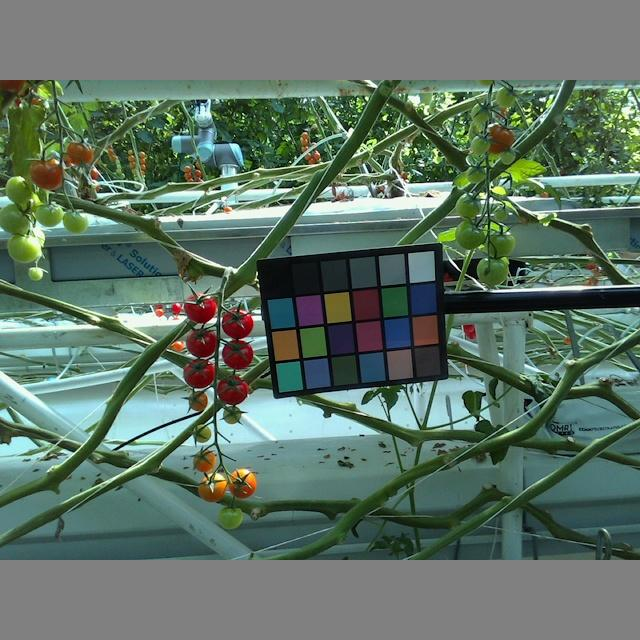green: (6, 232, 44, 263), (476, 254, 511, 287), (1, 204, 36, 235), (456, 219, 486, 251), (483, 230, 516, 257), (32, 202, 66, 227), (453, 190, 481, 220), (6, 174, 33, 205), (60, 208, 88, 233), (217, 504, 243, 530), (494, 85, 515, 108), (470, 101, 490, 124), (470, 133, 489, 156), (221, 406, 243, 424), (191, 423, 212, 441), (466, 164, 485, 183), (500, 148, 517, 165)
pink: (28, 156, 63, 190), (485, 123, 515, 154), (225, 470, 258, 498), (64, 138, 92, 166), (197, 477, 228, 502), (190, 447, 216, 471), (187, 390, 208, 410)
red: (221, 306, 255, 339), (184, 327, 221, 357), (183, 292, 216, 323), (183, 358, 218, 387), (221, 340, 254, 369), (216, 376, 249, 404)
